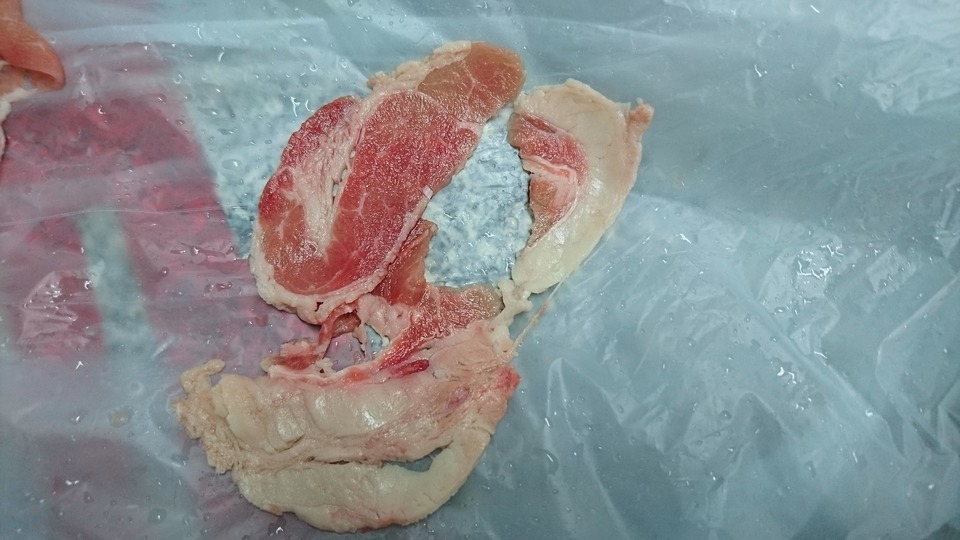restructured meat: (171, 34, 661, 537)
